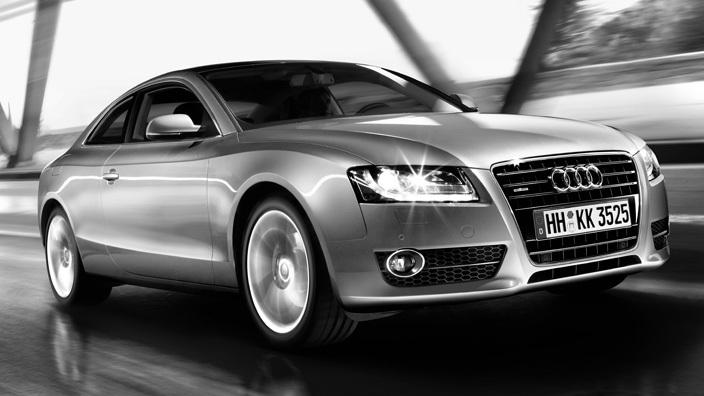car: (37, 59, 675, 361)
